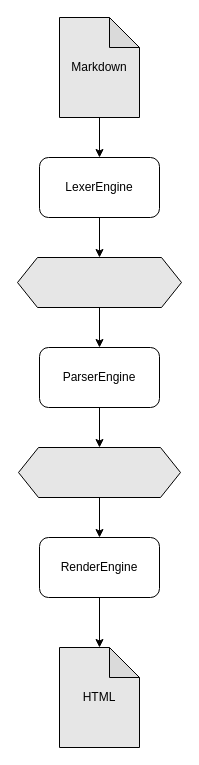
Some shapes in this 199 by 765 pixel diagram are drawn without their labels. The shapes that lost their labels are listed below. From the top down, each one's box as (x1, y1, x2, y2) in pixels, then its label:
(16, 256, 182, 308): MarkdownToken List
(18, 446, 180, 498): MarkdownObject List
